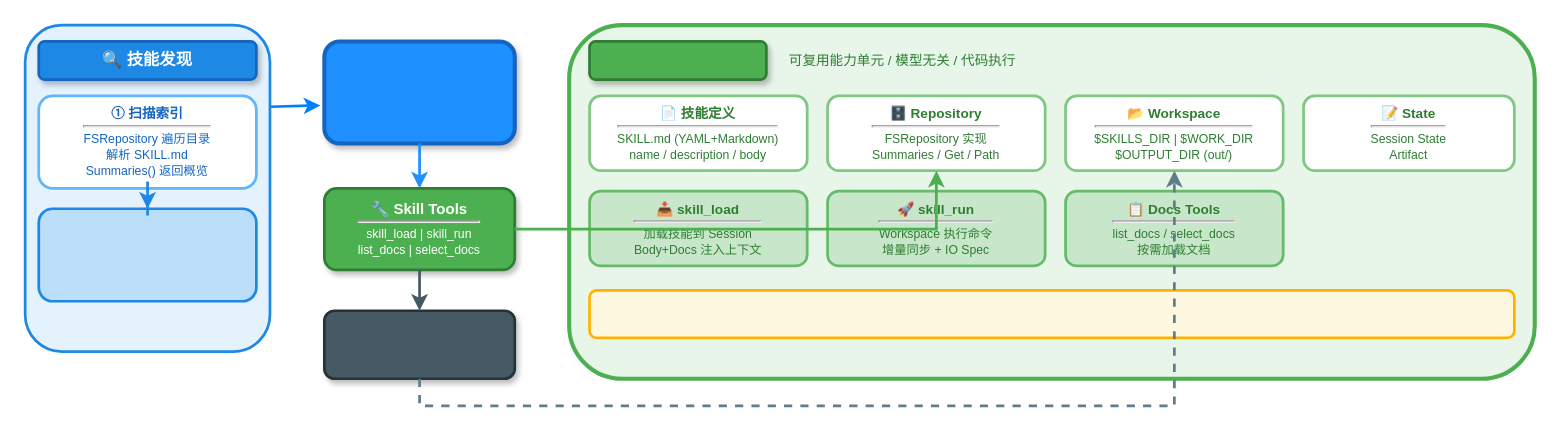
Some shapes in this 1560 by 442 pixel diagram are drawn without their labels. Each missing label, with the centre of its shape:
"② 注入上下文 RequestProcessor 调用 注入 System Message Available skills: ..." goes at pixel 147 254.
"⚙️ CodeExecutor Local / Container 执行" goes at pixel 420 346.
"执行流程: 发现技能 → LLM获取列表 → skill_load 加载 → skill_run 执行 → 收集输出" goes at pixel 1051 313.
"📦 Skill 技能模块" goes at pixel 678 62.
"🤖 Agent LLM + Tools 系统消息含技能列表" goes at pixel 420 93.
